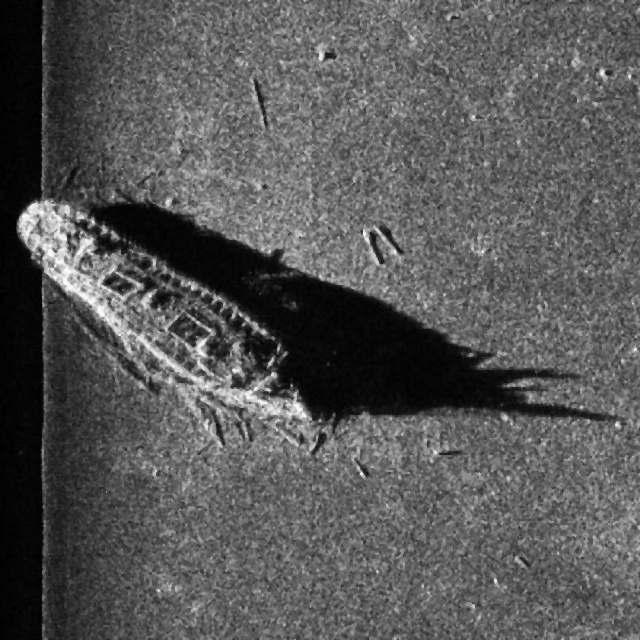Ship: (14, 188, 318, 447)
